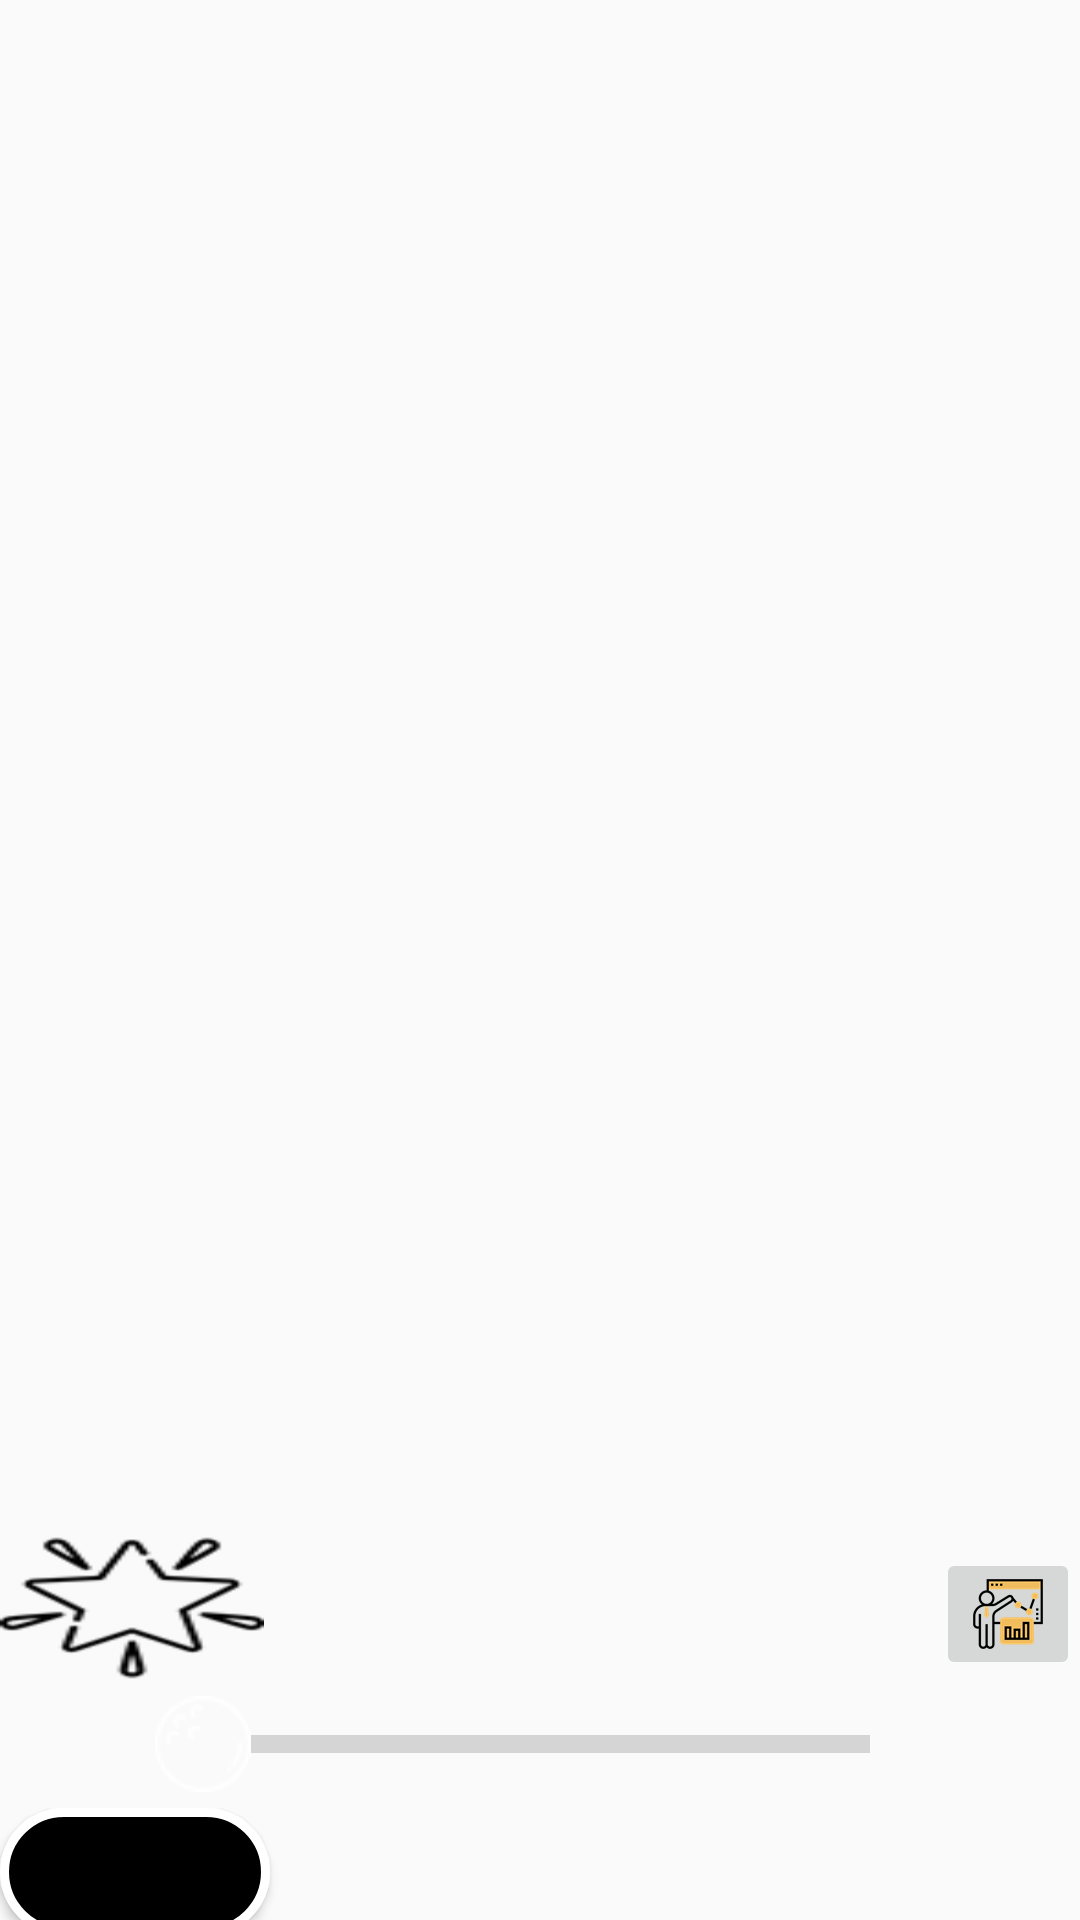

Icons on this 1080w x 1920h Android screen, each with its box as (x1, y1, x2, y2):
analyze: (948, 1566, 1068, 1662)
